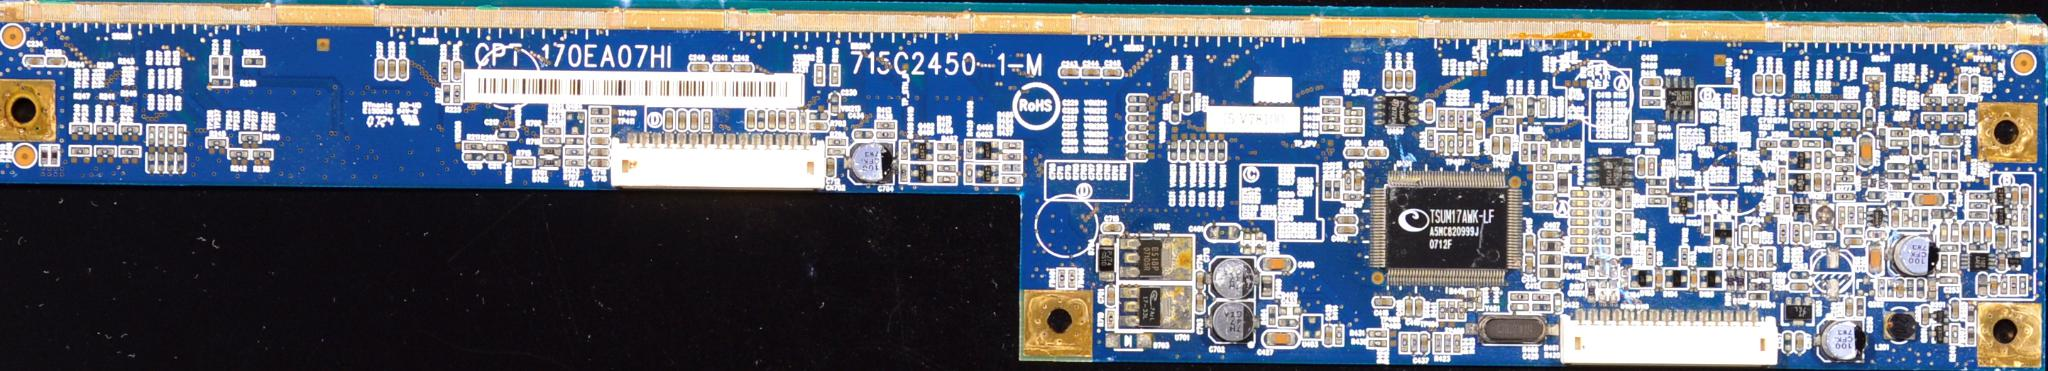Capacitor Jumper: (1860, 136, 1873, 165), (1208, 226, 1237, 238), (1266, 332, 1294, 344), (1869, 247, 1881, 274), (1263, 259, 1290, 270), (1917, 192, 1941, 205), (1102, 222, 1122, 233), (1940, 136, 1959, 145), (825, 157, 835, 176), (1540, 230, 1560, 239), (1988, 276, 1997, 295), (1195, 293, 1204, 312), (1061, 67, 1079, 76), (829, 93, 839, 111), (808, 111, 827, 120), (1475, 120, 1484, 138), (1813, 172, 1822, 191), (1960, 223, 1970, 242), (1996, 230, 2005, 248), (1844, 298, 1853, 316), (25, 56, 43, 65), (1972, 222, 1980, 243), (1689, 269, 1697, 290), (688, 112, 697, 129), (1637, 157, 1646, 174), (1890, 209, 1899, 226), (1384, 69, 1392, 89), (1127, 114, 1147, 121), (746, 110, 754, 129), (1217, 141, 1225, 161), (589, 148, 609, 155), (1843, 236, 1863, 244), (1570, 246, 1590, 253), (377, 59, 385, 78), (1125, 106, 1147, 112), (1126, 124, 1148, 131), (453, 61, 461, 80), (1102, 68, 1121, 76), (1640, 78, 1659, 86), (1970, 76, 1977, 94), (1865, 108, 1873, 127), (1492, 136, 1499, 154), (1368, 148, 1386, 155), (465, 152, 483, 159), (486, 153, 504, 161), (1535, 182, 1553, 189), (1535, 192, 1553, 200), (1336, 216, 1354, 223), (1526, 256, 1533, 274), (1655, 270, 1663, 289), (1791, 282, 1809, 290), (46, 57, 64, 65), (733, 63, 751, 71), (690, 64, 708, 72), (1614, 188, 1621, 209), (1941, 222, 1947, 243), (1081, 68, 1098, 76), (1765, 76, 1772, 93), (1754, 76, 1762, 93), (1959, 76, 1967, 93), (499, 131, 516, 138), (1207, 141, 1215, 158), (1570, 189, 1587, 197), (1526, 235, 1533, 252), (1896, 280, 1904, 297), (1554, 294, 1562, 311), (1404, 299, 1412, 316), (1783, 333, 1791, 350), (713, 63, 730, 71), (1405, 69, 1412, 89), (1126, 95, 1145, 102), (1425, 101, 1432, 120), (778, 110, 785, 129), (808, 123, 828, 129), (1127, 132, 1147, 138), (1127, 142, 1147, 149), (1189, 140, 1195, 159), (1199, 141, 1206, 161), (1616, 213, 1622, 233), (1336, 226, 1356, 233), (1614, 235, 1621, 255), (1540, 281, 1560, 287), (1108, 286, 1114, 306), (1510, 303, 1529, 310), (1277, 319, 1297, 325), (1324, 325, 1331, 345), (1375, 298, 1391, 306), (388, 61, 396, 77), (1395, 69, 1401, 88), (1527, 97, 1533, 115), (1172, 103, 1178, 121), (590, 137, 609, 144), (590, 159, 609, 166), (2021, 187, 2027, 205), (2011, 187, 2018, 205), (1570, 200, 1588, 206), (1570, 209, 1588, 216), (1570, 227, 1588, 234), (1984, 225, 1991, 243), (1804, 225, 1810, 243), (1741, 225, 1748, 243), (1752, 226, 1758, 244), (1725, 250, 1732, 268), (1940, 277, 1958, 283), (1415, 298, 1421, 316), (1420, 333, 1426, 351), (400, 60, 406, 78), (1503, 137, 1510, 154), (1179, 141, 1186, 158), (1347, 149, 1364, 155), (1570, 218, 1587, 225), (1196, 272, 1203, 289), (1951, 302, 1958, 319), (1796, 334, 1802, 351), (666, 110, 671, 129), (1170, 141, 1176, 161), (1128, 153, 1148, 158), (1998, 253, 2005, 269), (1776, 74, 1782, 93), (1507, 98, 1512, 116), (769, 111, 775, 128), (679, 111, 684, 128), (1570, 238, 1587, 243), (1923, 307, 1928, 324), (1354, 174, 1360, 189), (1737, 251, 1742, 266)
Connector: (1560, 307, 1779, 368), (613, 131, 827, 193)
IC: (1370, 175, 1522, 282), (1121, 282, 1194, 327), (1122, 236, 1192, 282), (1590, 155, 1631, 189), (1375, 94, 1418, 125), (1667, 76, 1693, 121), (1784, 295, 1810, 327)
Resistor Jumper: (206, 137, 227, 146), (229, 148, 248, 157), (252, 150, 272, 159), (936, 153, 956, 162), (1451, 334, 1460, 354), (1865, 73, 1883, 82), (1532, 293, 1549, 302), (246, 56, 263, 65), (815, 65, 823, 85), (563, 158, 583, 166), (1911, 182, 1930, 189), (1779, 223, 1787, 243), (1791, 223, 1799, 243), (1368, 329, 1387, 337), (1368, 340, 1387, 347), (1182, 72, 1190, 90), (1642, 89, 1660, 97), (452, 85, 460, 103), (1923, 95, 1941, 103), (1946, 95, 1964, 103), (1322, 97, 1340, 105), (1642, 98, 1660, 106), (1539, 98, 1546, 116), (1816, 103, 1834, 111), (1322, 106, 1340, 114), (1945, 114, 1963, 121), (1923, 114, 1941, 121), (1322, 115, 1340, 123), (242, 133, 260, 141), (1426, 129, 1434, 148), (827, 137, 845, 145), (1891, 138, 1910, 146), (828, 148, 846, 155), (1002, 154, 1020, 162), (1950, 325, 1958, 344), (1434, 333, 1442, 351), (210, 57, 218, 76), (222, 57, 230, 76), (541, 137, 562, 144), (1792, 102, 1809, 110), (1840, 102, 1857, 110), (1438, 110, 1446, 127), (566, 148, 583, 155), (1522, 144, 1529, 161), (965, 165, 973, 182), (1458, 302, 1465, 319), (1268, 307, 1276, 324), (1106, 312, 1114, 329), (1443, 333, 1451, 350), (936, 144, 956, 150), (1334, 179, 1340, 199), (1647, 188, 1667, 195), (1624, 213, 1630, 233), (1335, 325, 1341, 345), (543, 127, 559, 135), (443, 85, 449, 103), (1458, 110, 1464, 128), (1344, 118, 1362, 124), (1793, 121, 1812, 128), (1816, 121, 1834, 128), (1839, 121, 1857, 128), (1344, 127, 1362, 133), (1890, 131, 1908, 137), (1523, 133, 1541, 140), (1003, 142, 1021, 149), (1531, 142, 1537, 161), (1540, 144, 1546, 162), (515, 158, 533, 165), (936, 165, 955, 171), (938, 175, 956, 182), (1003, 176, 1021, 183), (1835, 193, 1853, 200), (1648, 197, 1667, 204), (1532, 303, 1550, 310), (832, 65, 839, 82), (1344, 110, 1361, 116), (1496, 118, 1512, 124), (878, 121, 895, 128), (1496, 127, 1512, 133), (566, 137, 583, 144), (1465, 136, 1472, 153), (465, 142, 482, 149), (486, 144, 503, 150), (1648, 158, 1655, 175), (1003, 165, 1020, 171), (1324, 180, 1331, 197), (1344, 193, 1361, 200), (1624, 189, 1630, 206), (1625, 238, 1631, 255), (1510, 293, 1527, 299), (1438, 302, 1445, 319), (1172, 72, 1178, 88), (1438, 135, 1445, 150), (1647, 179, 1667, 184), (1320, 124, 1339, 129), (1458, 135, 1463, 153), (1447, 136, 1452, 154), (1345, 171, 1351, 189), (441, 63, 447, 80), (1516, 97, 1522, 114), (876, 132, 893, 137), (967, 141, 972, 158), (1703, 216, 1708, 233), (1448, 302, 1454, 319), (1448, 110, 1454, 125)
Transistor: (976, 140, 998, 162), (910, 162, 934, 183), (973, 163, 998, 183), (910, 140, 933, 161), (1787, 149, 1809, 170), (1671, 193, 1695, 212), (1788, 172, 1812, 191), (1631, 268, 1655, 286), (1715, 219, 1732, 243), (1664, 270, 1688, 287), (1699, 266, 1716, 286)
